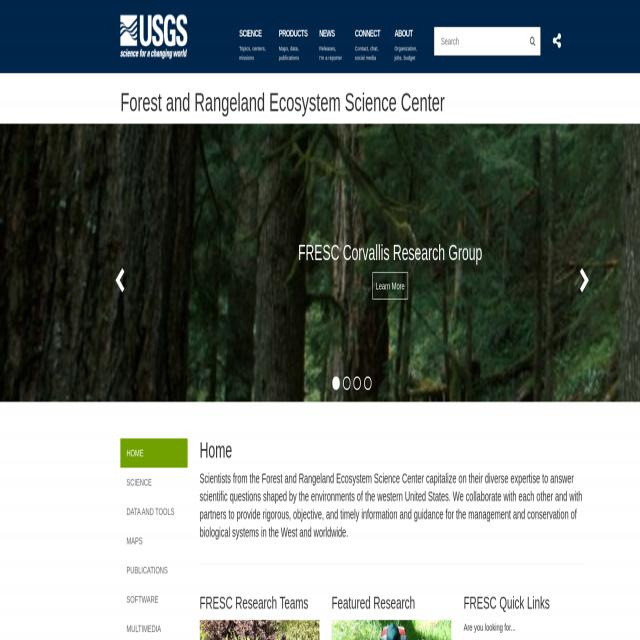button: (120, 13, 188, 61), (200, 619, 320, 640), (332, 620, 451, 640), (120, 526, 188, 556), (120, 555, 188, 585), (120, 438, 188, 467), (120, 468, 188, 497), (120, 497, 188, 526), (120, 585, 187, 614), (272, 21, 312, 67), (120, 614, 186, 640), (387, 21, 423, 68), (350, 21, 384, 68), (234, 21, 268, 67), (314, 21, 346, 67), (372, 272, 408, 300), (575, 255, 593, 308), (112, 255, 129, 303), (524, 26, 540, 56), (550, 28, 565, 56), (332, 376, 340, 390), (343, 376, 351, 390), (353, 376, 361, 390), (364, 376, 372, 390)
field: (434, 26, 541, 56)
